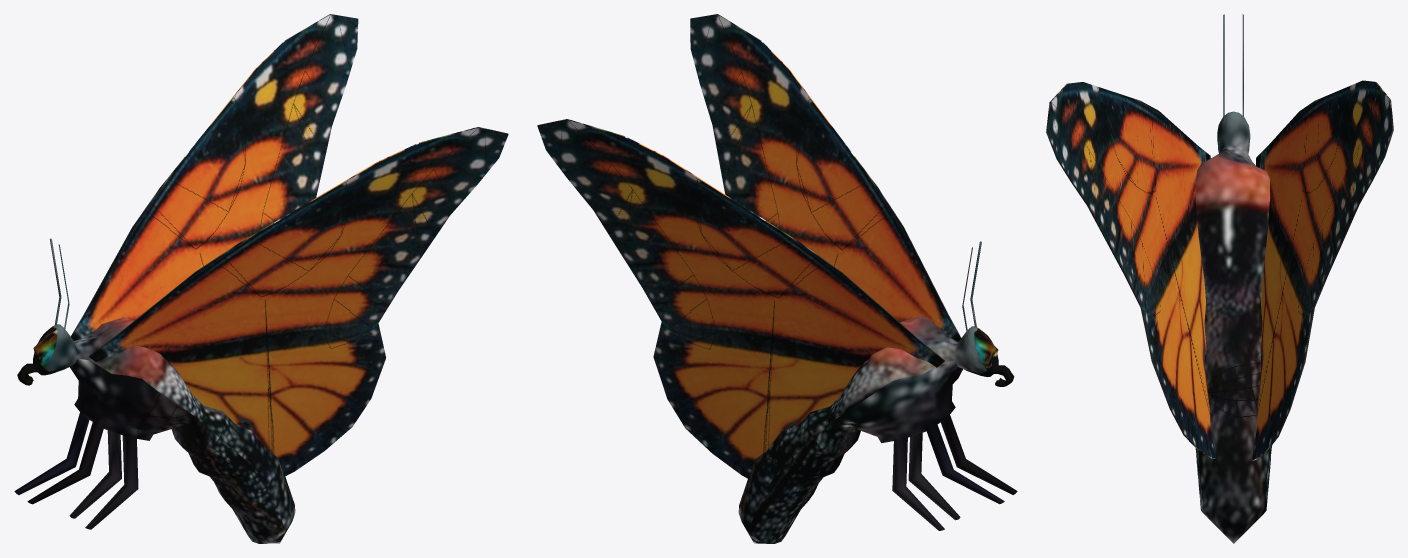
The model's file is mariposa.glb.
3 views of the same model, side by side, from view 1: azimuth 30°, elevation 25°; view 2: azimuth 150°, elevation 25°; view 3: azimuth 270°, elevation 25° (orthographic). The views are drawn at different scales.
Parts seen in each view (by area): view 1: //Users/eduardo/Desktop/alas.ai, //Users/eduardo/Desktop/alas.ai_copy4, sphere2; view 2: //Users/eduardo/Desktop/alas.ai_copy4, //Users/eduardo/Desktop/alas.ai, sphere2; view 3: //Users/eduardo/Desktop/alas.ai, //Users/eduardo/Desktop/alas.ai_copy4, sphere2.
Part boxes in pixels (x1,y1,x2,y2): //Users/eduardo/Desktop/alas.ai: [89, 127, 508, 476]; //Users/eduardo/Desktop/alas.ai_copy4: [71, 14, 358, 340]; sphere2: [14, 238, 295, 543]; //Users/eduardo/Desktop/alas.ai_copy4: [537, 119, 944, 478]; //Users/eduardo/Desktop/alas.ai: [690, 14, 961, 341]; sphere2: [738, 241, 1017, 543]; //Users/eduardo/Desktop/alas.ai: [1046, 82, 1216, 458]; //Users/eduardo/Desktop/alas.ai_copy4: [1252, 80, 1393, 460]; sphere2: [1195, 14, 1272, 543].
Bounding box in the file's own units: 1.59 × 1.67 × 1.03.
Materials: 2 (2 with a texture image).
